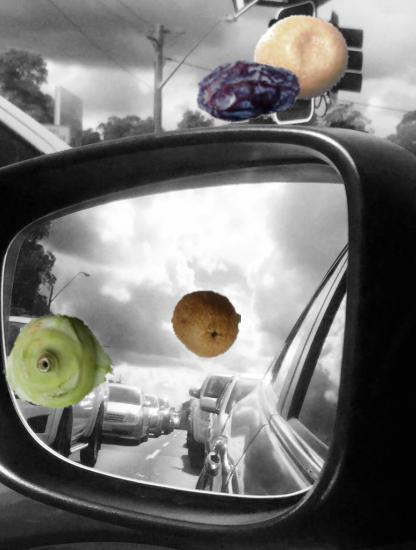Dates: (194, 36, 301, 143)
Kiwi: (171, 289, 241, 359)
Kohlrabi: (8, 312, 114, 418)
Kumquats: (255, 11, 349, 105)
